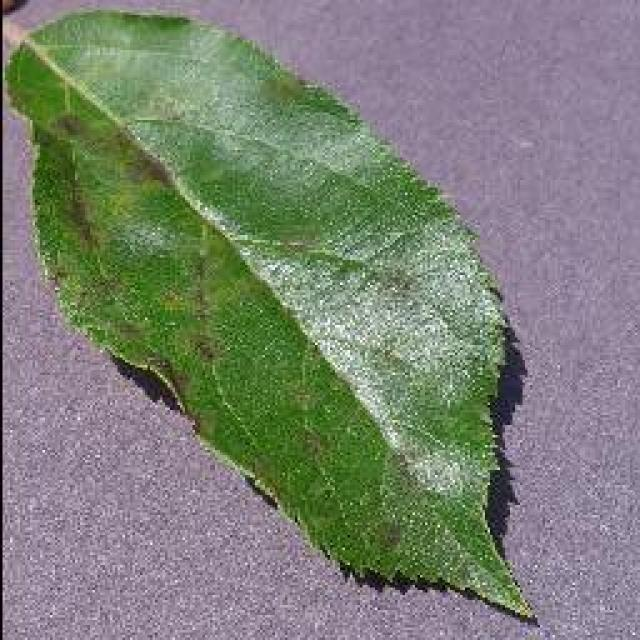apple scab disease: (2, 2, 540, 622)
